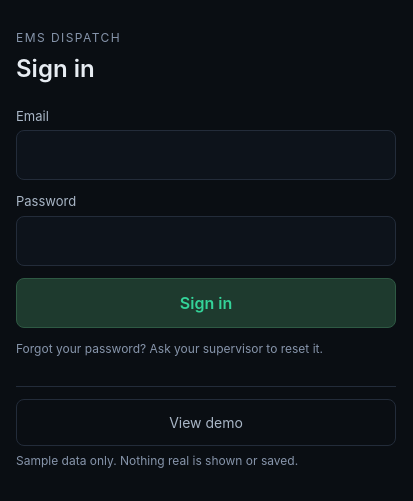
sign-in › a wrong password shows the server's message and stays on sign-in
The image size is (413, 501).
Step 1. Type "boss@a.test" into the field labelled "Email" → (206,155), box [16,130,396,180]
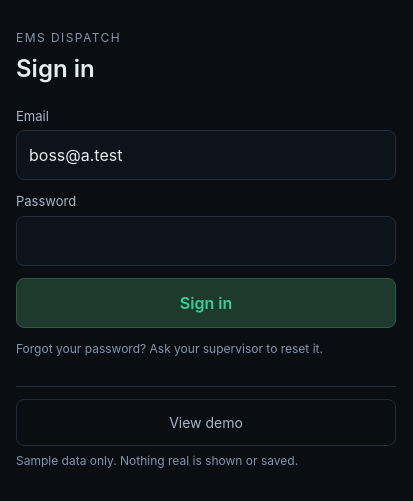
Step 2. Type "wrong-password" into the password field labelled "Password" → (206,240), box [16,216,396,266]
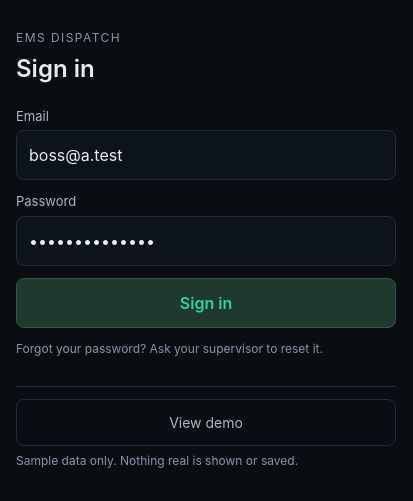
Step 3. Click the button "Sign in" → (206,302), box [16,278,396,328]
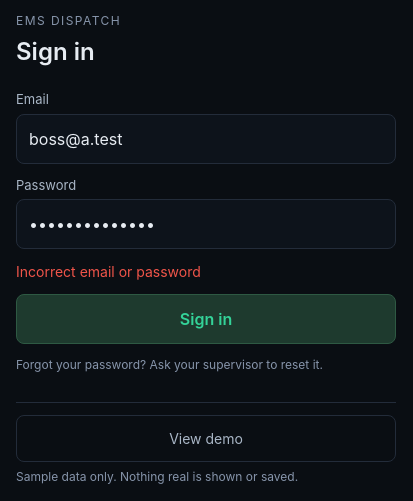
Expected: the button "Sign in" is shown, [16,294,396,344]
Expected: the text "Incorrect email or password" is shown, [16,263,201,280]
